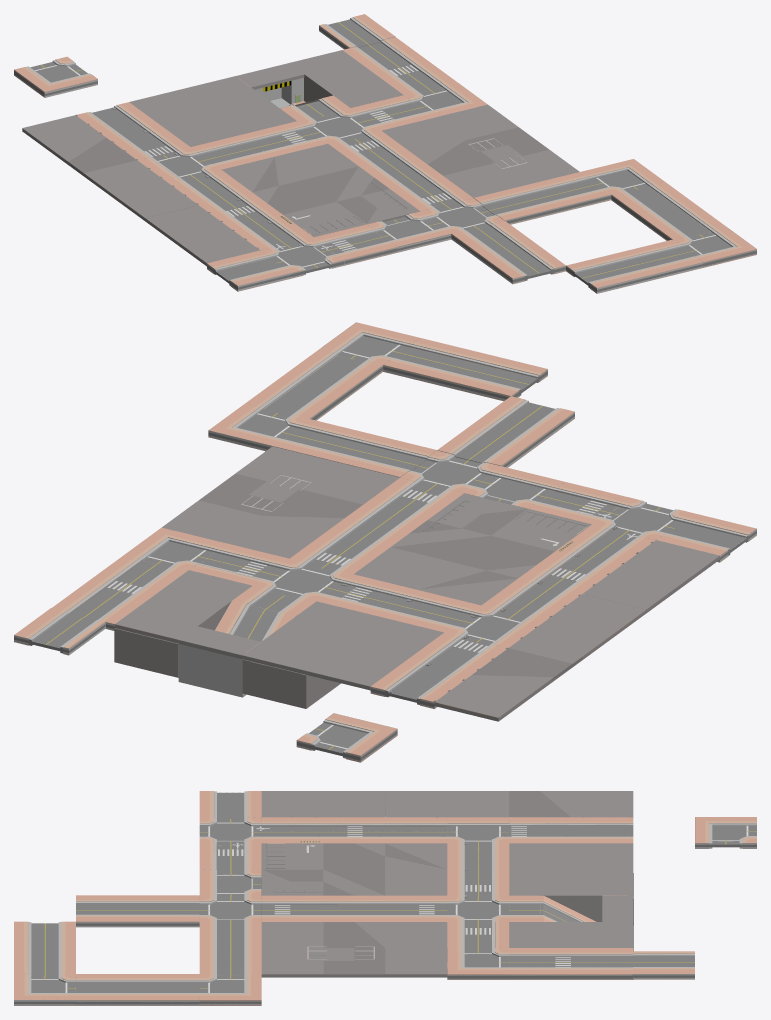
Rendered from road_1_mesh.fbx.
3 renders of one model, top to bottom at view 1: azimuth 30°, elevation 25°; view 2: azimuth 150°, elevation 25°; view 3: azimuth 270°, elevation 25°, orthographic. The views are drawn at different scales.
Parts seen in each view (by area): view 1: road_1_mesh; view 2: road_1_mesh; view 3: road_1_mesh.
Boxes of the visible parts, x1=… form: road_1_mesh: x1=14, y1=14, x2=756, y2=293; road_1_mesh: x1=14, y1=322, x2=756, y2=762; road_1_mesh: x1=14, y1=791, x2=756, y2=1005.
Size of the model in its own units: 9888 by 793 by 14832.
Materials: 1 (1 with a texture image).
